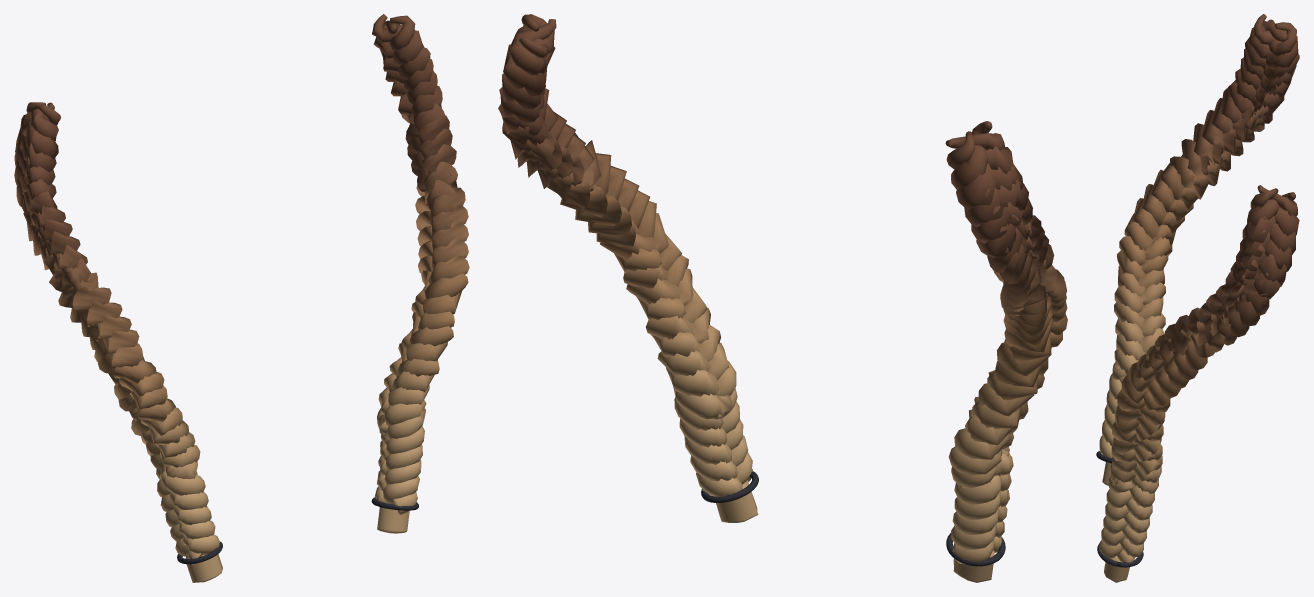
File: Ombre-4b87e7c6ca21253-hair.glb
The picture shows the model from 3 angles, left to right: view 1: azimuth 30°, elevation 25°; view 2: azimuth 150°, elevation 25°; view 3: azimuth 270°, elevation 25°; orthographic projection. The views are drawn at different scales.
Parts seen in each view (by area): view 1: 226 hairLengths / Hair / chestnut226, 226 hairLengths / Hair / ties226; view 2: 226 hairLengths / Hair / chestnut226, 226 hairLengths / Hair / ties226; view 3: 226 hairLengths / Hair / chestnut226, 226 hairLengths / Hair / ties226.
Part boxes in pixels (x1,y1,x2,y2): 226 hairLengths / Hair / chestnut226: (14, 14, 469, 582); 226 hairLengths / Hair / ties226: (177, 497, 418, 564); 226 hairLengths / Hair / chestnut226: (498, 14, 1067, 582); 226 hairLengths / Hair / ties226: (701, 471, 1005, 566); 226 hairLengths / Hair / chestnut226: (1099, 14, 1299, 582); 226 hairLengths / Hair / ties226: (1096, 451, 1143, 567).
Size of the model in its own units: 1.03 by 1.05 by 0.4513.
2 materials, 1 textured.
